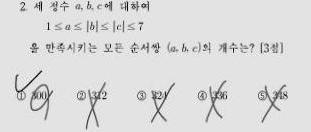choice: (12, 80, 28, 102)
not-choice: (75, 89, 87, 101), (135, 89, 147, 101), (196, 89, 207, 101), (256, 89, 267, 101)
